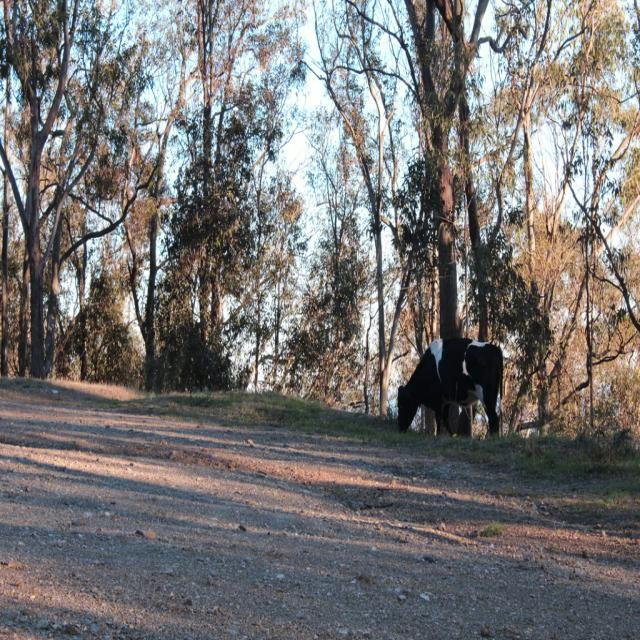cow: (399, 338, 504, 434)
